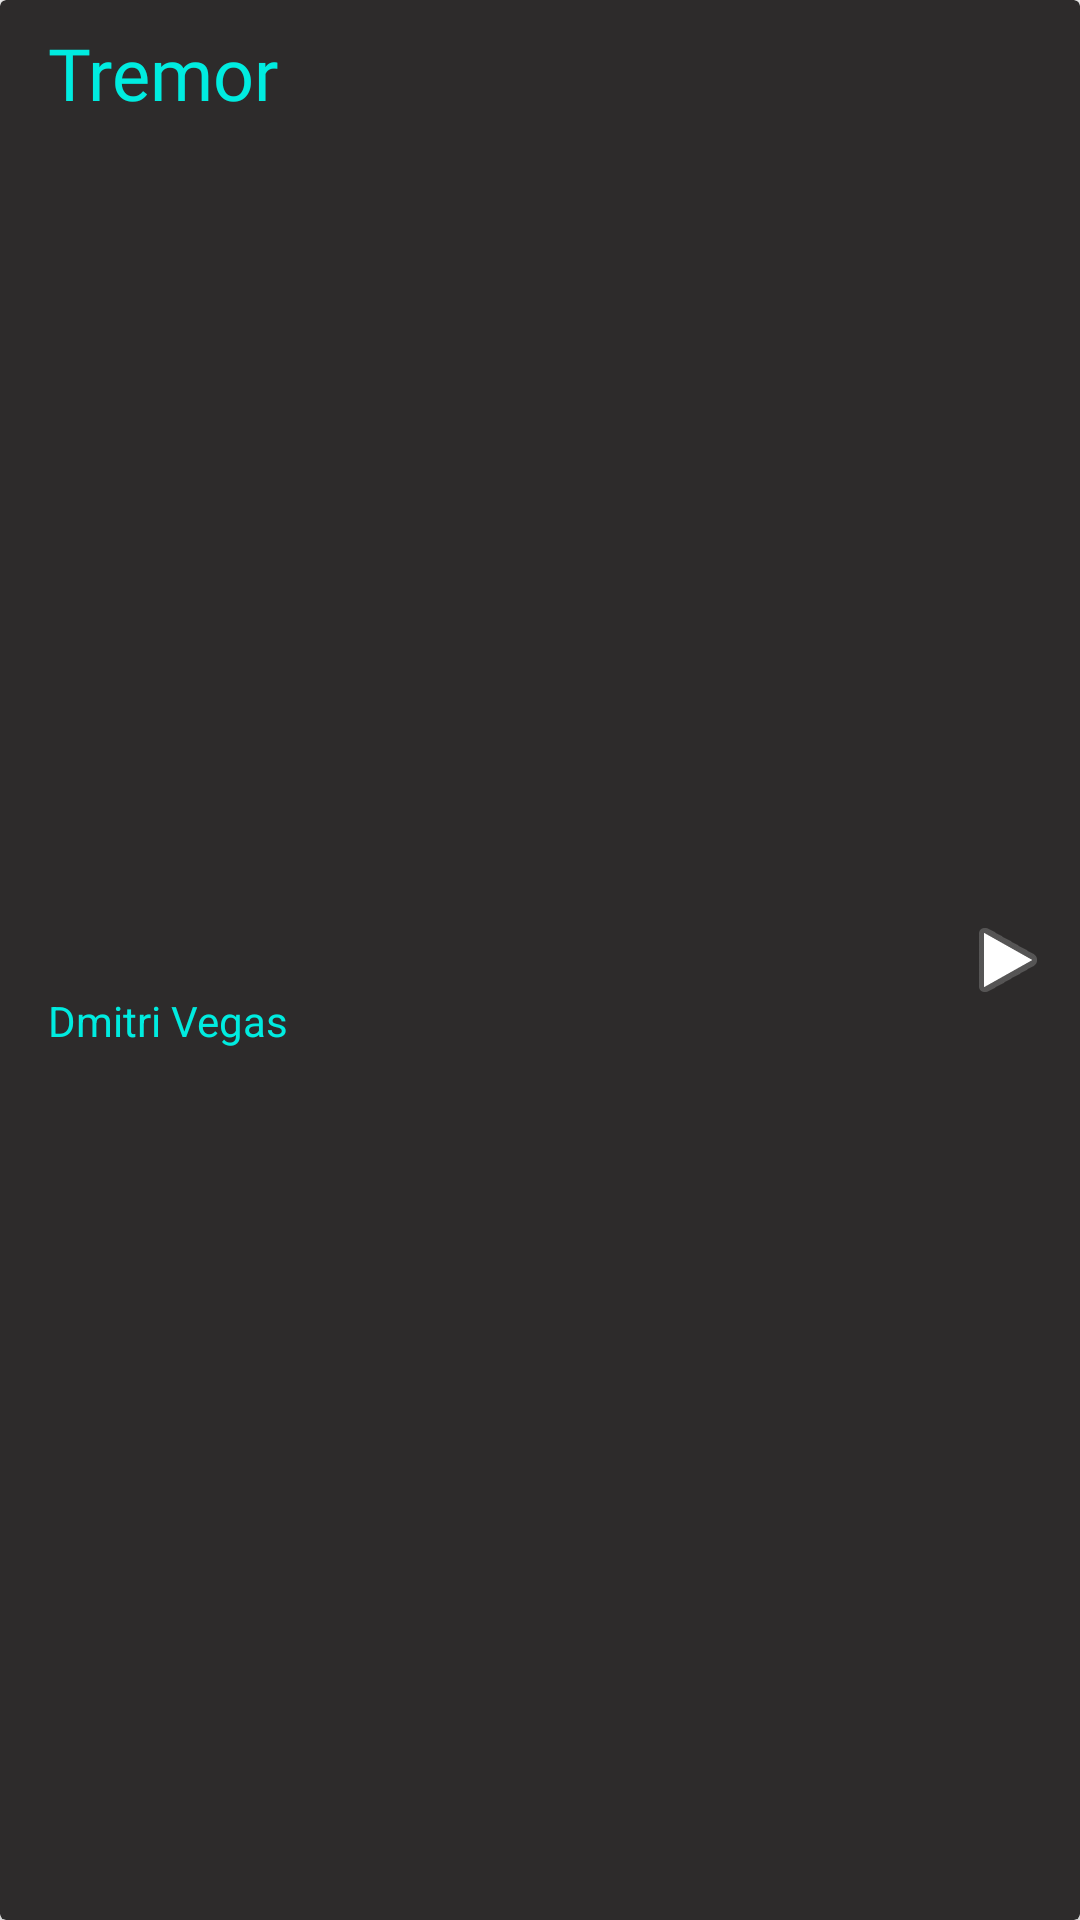

Screen size 1080×1920. Icon name, then its center in pixels as point (x, y):
play: point (1008, 960)
